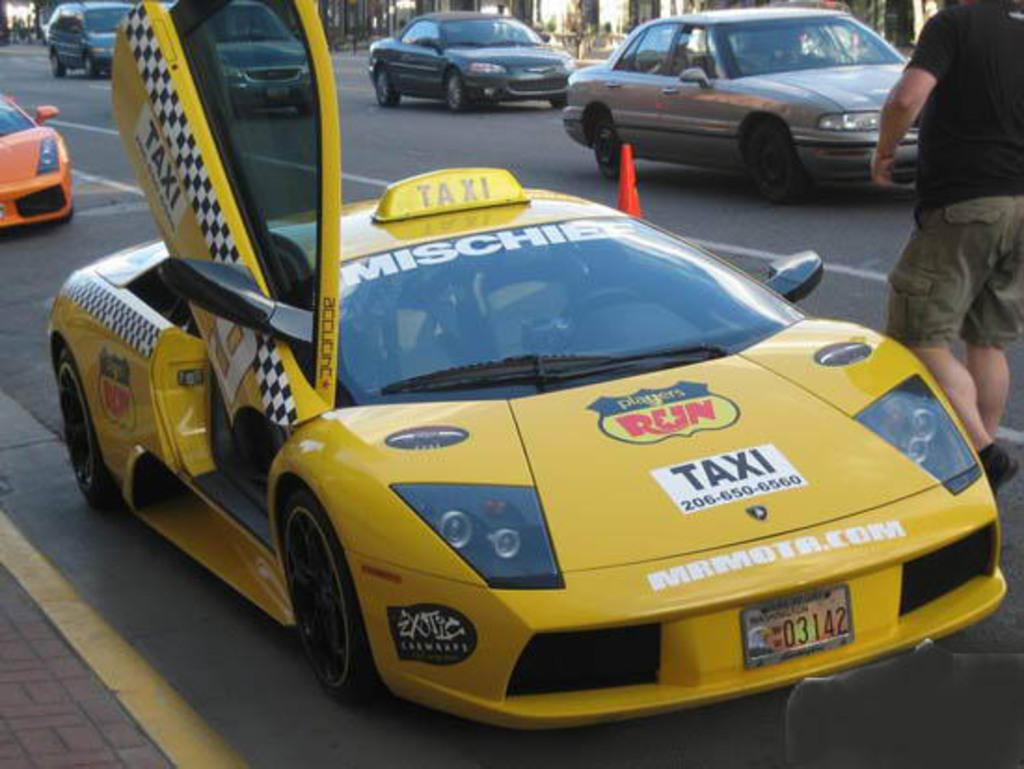taxi: (48, 2, 1008, 730)
